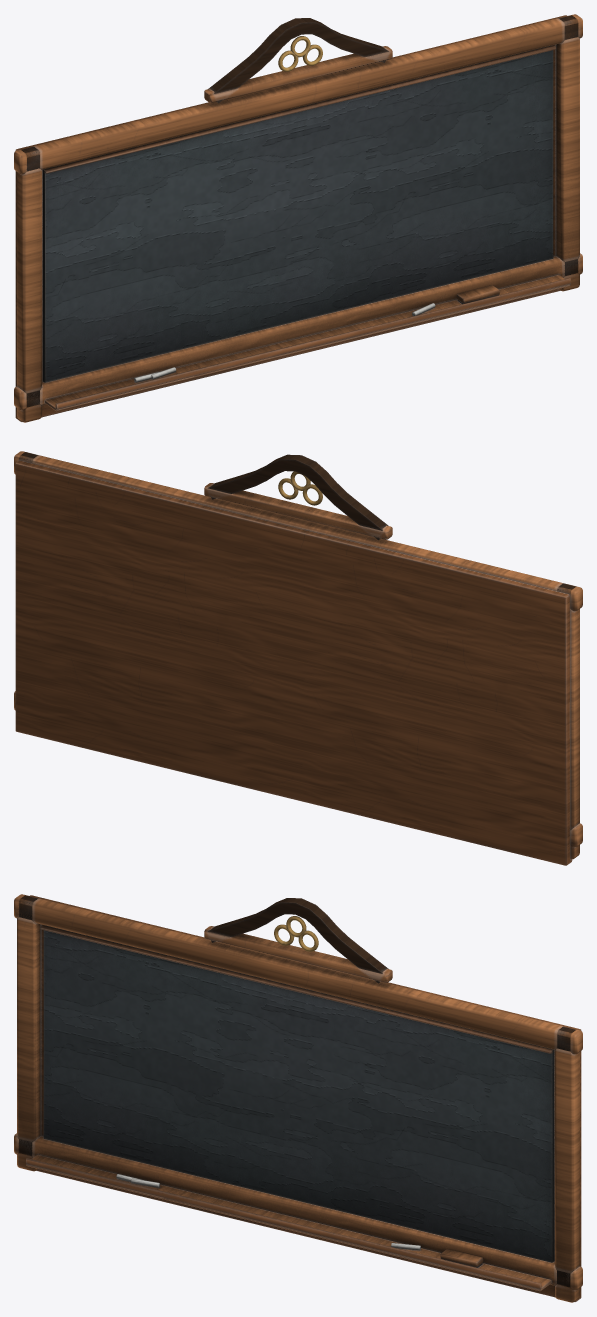
Rendered from Chalkboard.fbx.
3 views of the same model, one above another, from view 1: azimuth 30°, elevation 25°; view 2: azimuth 150°, elevation 25°; view 3: azimuth 330°, elevation 25° (orthographic).
Visible parts, largest first — view 1: Chalkboard; view 2: Chalkboard; view 3: Chalkboard.
Boxes of the visible parts, x1=… form: Chalkboard: x1=14, y1=14, x2=582, y2=422; Chalkboard: x1=14, y1=451, x2=582, y2=865; Chalkboard: x1=14, y1=894, x2=582, y2=1302.
Bounding box in the file's own units: 920 × 524 × 66.
